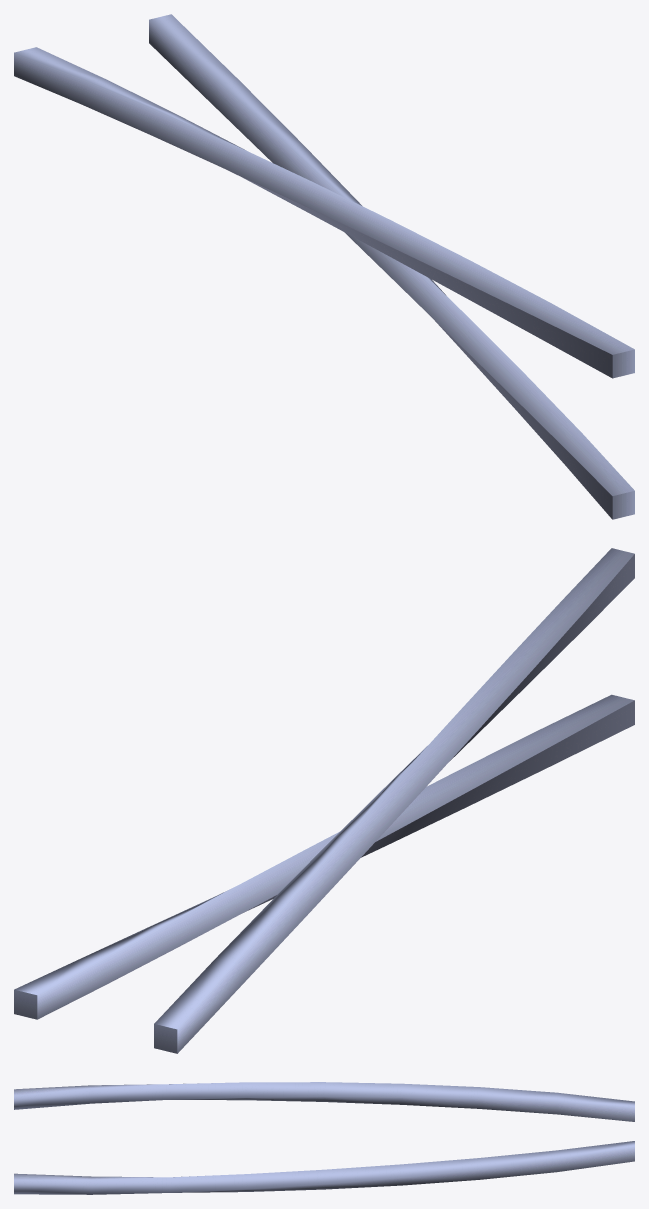
The model's file is railroad-rail-straight-skew-left-side.glb.
The picture shows the model from 3 angles, top to bottom: view 1: azimuth 30°, elevation 25°; view 2: azimuth 150°, elevation 25°; view 3: azimuth 270°, elevation 25°; orthographic projection. The views are drawn at different scales.
Visible parts, largest first — view 1: railroad-rail-straight-skew-left-side; view 2: railroad-rail-straight-skew-left-side; view 3: railroad-rail-straight-skew-left-side.
Part boxes in pixels (left/top/right/bottom): railroad-rail-straight-skew-left-side: left=14, top=14, right=634, bottom=519; railroad-rail-straight-skew-left-side: left=14, top=548, right=634, bottom=1053; railroad-rail-straight-skew-left-side: left=14, top=1082, right=634, bottom=1194.
Bounding box in the file's own units: 0.7137 × 0.7137 × 4.
1 material, 1 textured.
